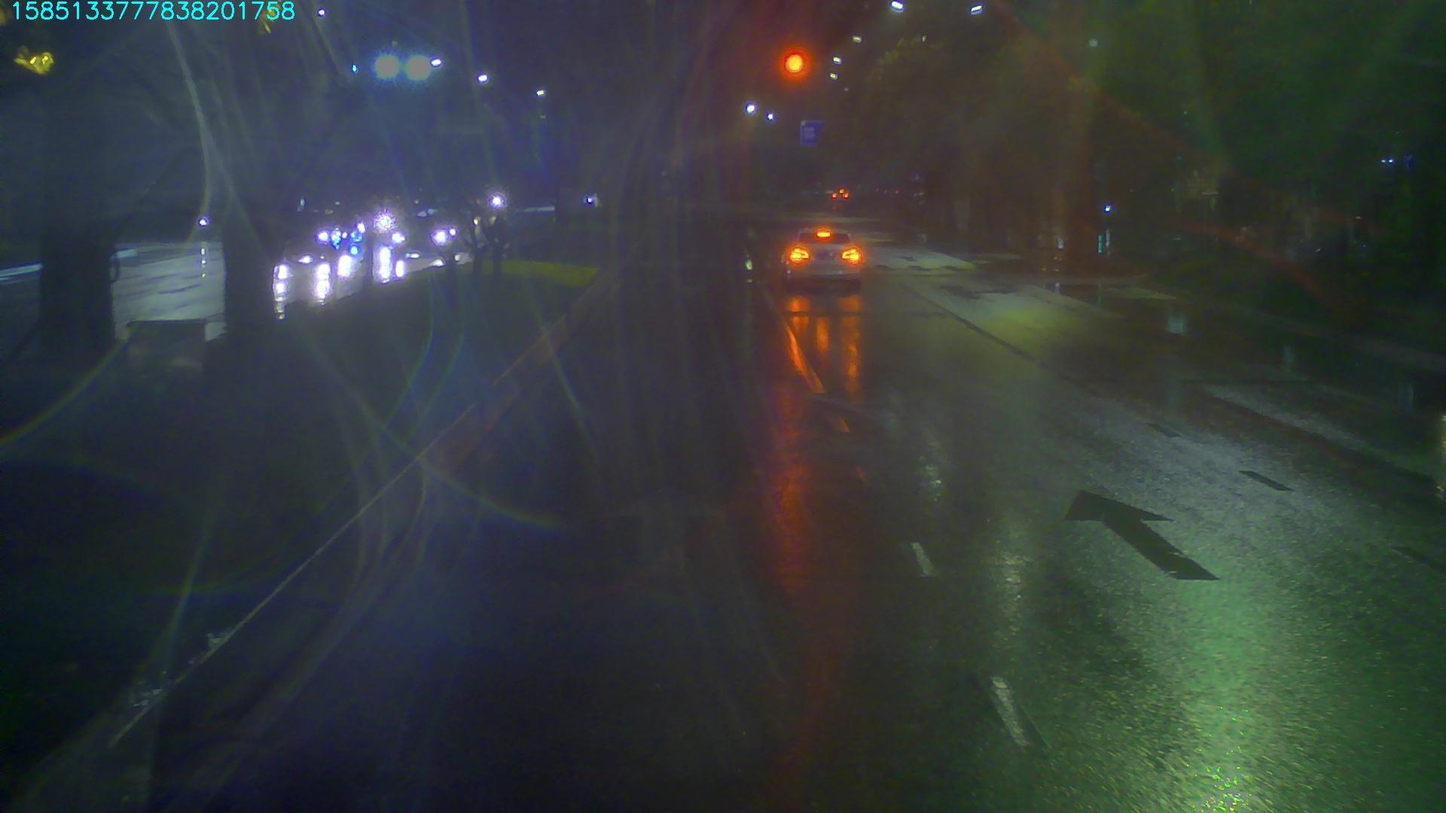red: (779, 47, 809, 81)
